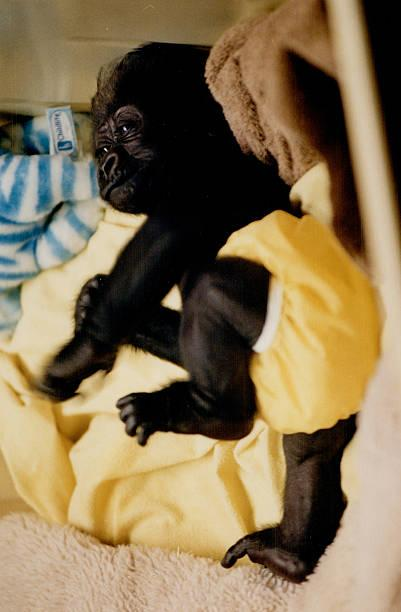gorille_Autres: (68, 37, 305, 282)
